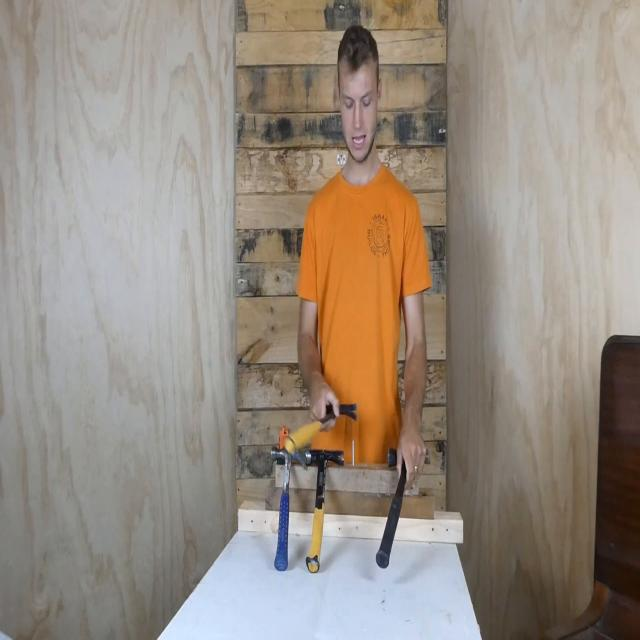hammer: (376, 448, 429, 568), (306, 449, 343, 573), (272, 452, 305, 570), (284, 403, 357, 453)
